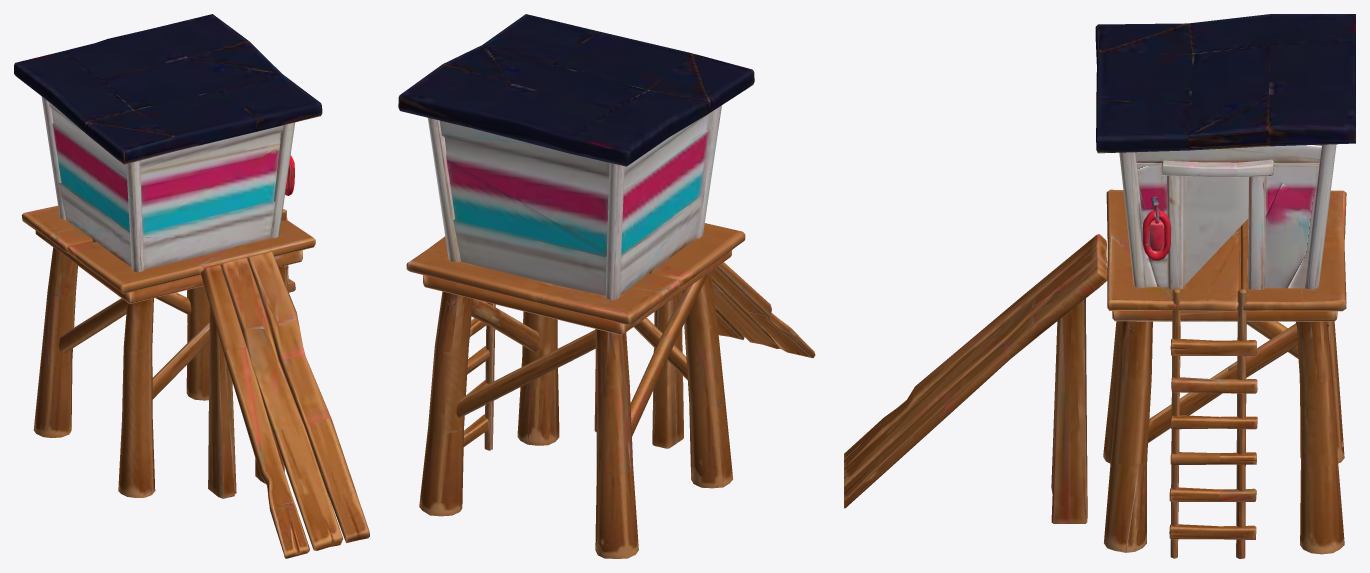
The model's file is lifeguard.glb.
3 renders of one model, left to right at view 1: azimuth 30°, elevation 25°; view 2: azimuth 150°, elevation 25°; view 3: azimuth 270°, elevation 25°, orthographic. The views are drawn at different scales.
Size of the model in its own units: 0.5487 by 0.9319 by 1.
Materials: 1 (1 with a texture image).
